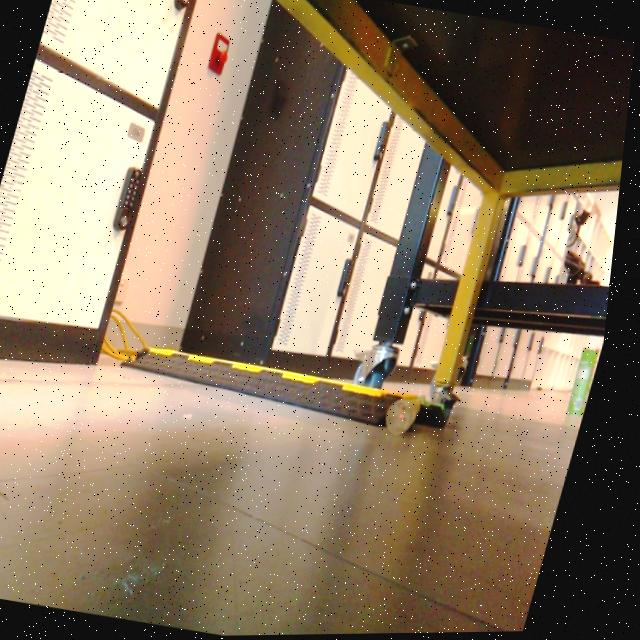redpringles: (564, 338, 611, 437)
